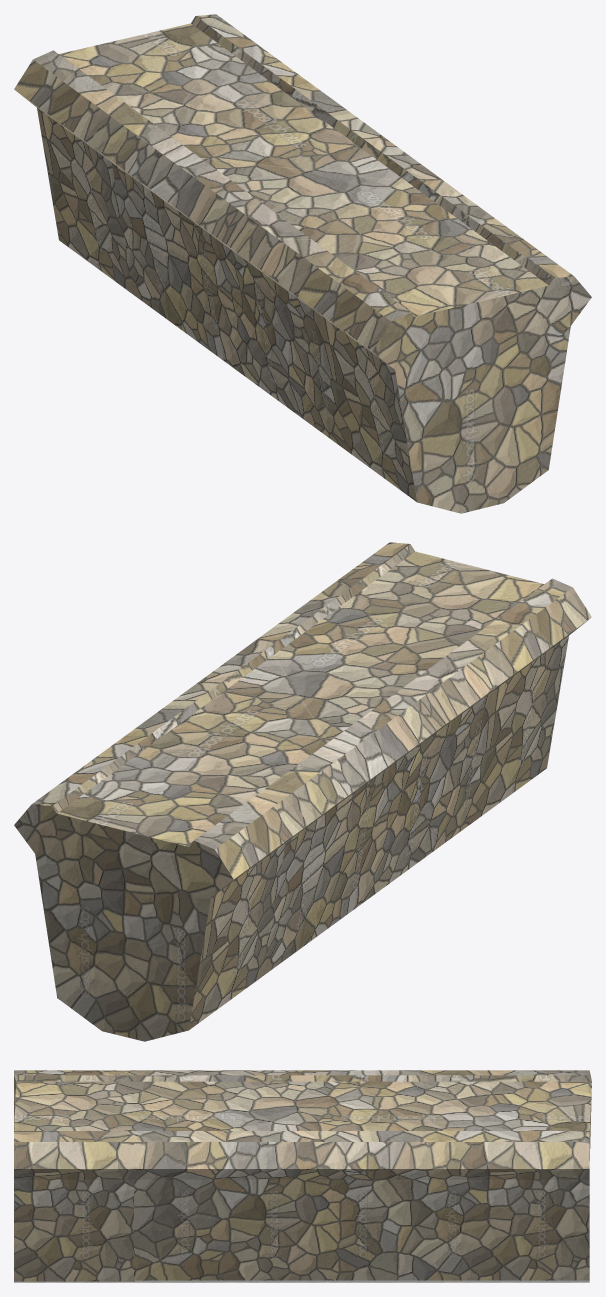
File: way.fbx
The picture shows the model from 3 angles, top to bottom: view 1: azimuth 30°, elevation 25°; view 2: azimuth 150°, elevation 25°; view 3: azimuth 270°, elevation 25°; orthographic projection. The views are drawn at different scales.
Parts seen in each view (by area): view 1: Circle; view 2: Circle; view 3: Circle.
Boxes of the visible parts, x1,y1,x2,y2 form: Circle: (14,14,591,513); Circle: (14,542,591,1041); Circle: (14,1070,591,1282).
Size of the model in its own units: 9.97 by 9.24 by 28.26.
